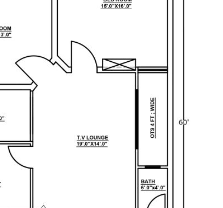door: (67, 33, 108, 79), (10, 49, 56, 84), (6, 143, 41, 177)
